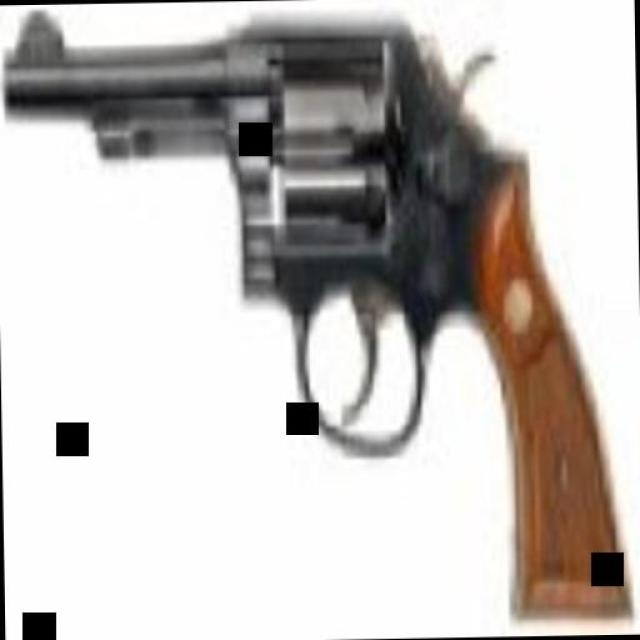gun: (9, 4, 620, 632)
